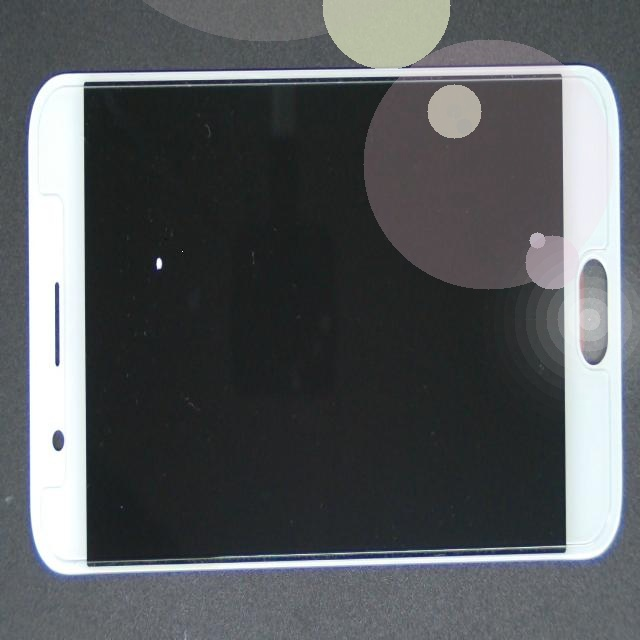stain: (72, 148, 218, 444)
